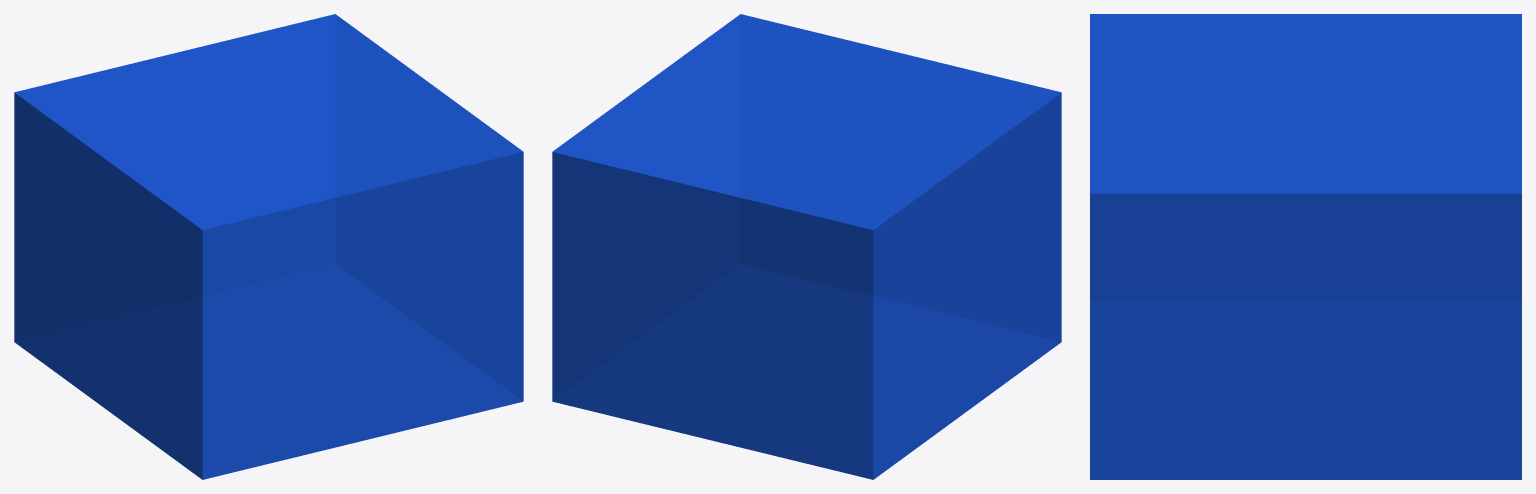
Rendered from water.dae.
3 views of the same model, side by side, from view 1: azimuth 30°, elevation 25°; view 2: azimuth 150°, elevation 25°; view 3: azimuth 270°, elevation 25° (orthographic). The views are drawn at different scales.
Visible parts, largest first — view 1: Cube_001; view 2: Cube_001; view 3: Cube_001.
Boxes of the visible parts, x1=… form: Cube_001: x1=14, y1=14, x2=523, y2=479; Cube_001: x1=552, y1=14, x2=1061, y2=479; Cube_001: x1=1090, y1=14, x2=1521, y2=479.
Bounding box in the file's own units: 0.3845 × 0.3905 × 0.2857.
